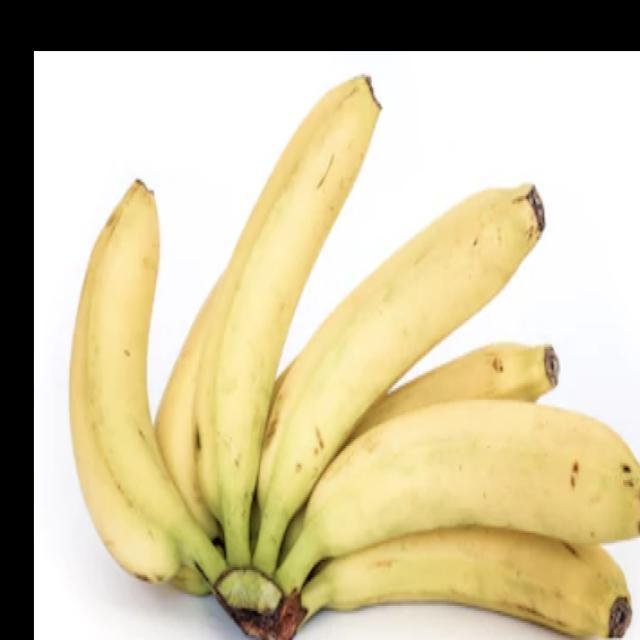Banana: (68, 72, 639, 639)
